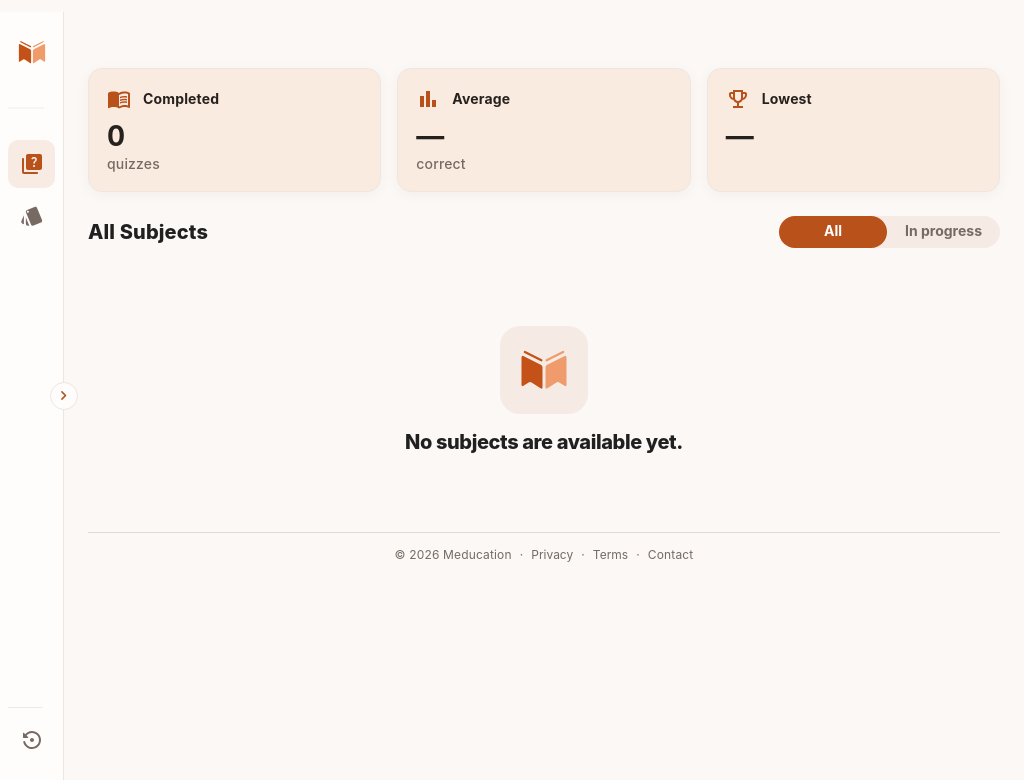
Test: shows a visible persistence error when a deck cannot be launched
Click the button named "Flashcards" at (32,216), box left=8, top=192, right=55, bottom=240
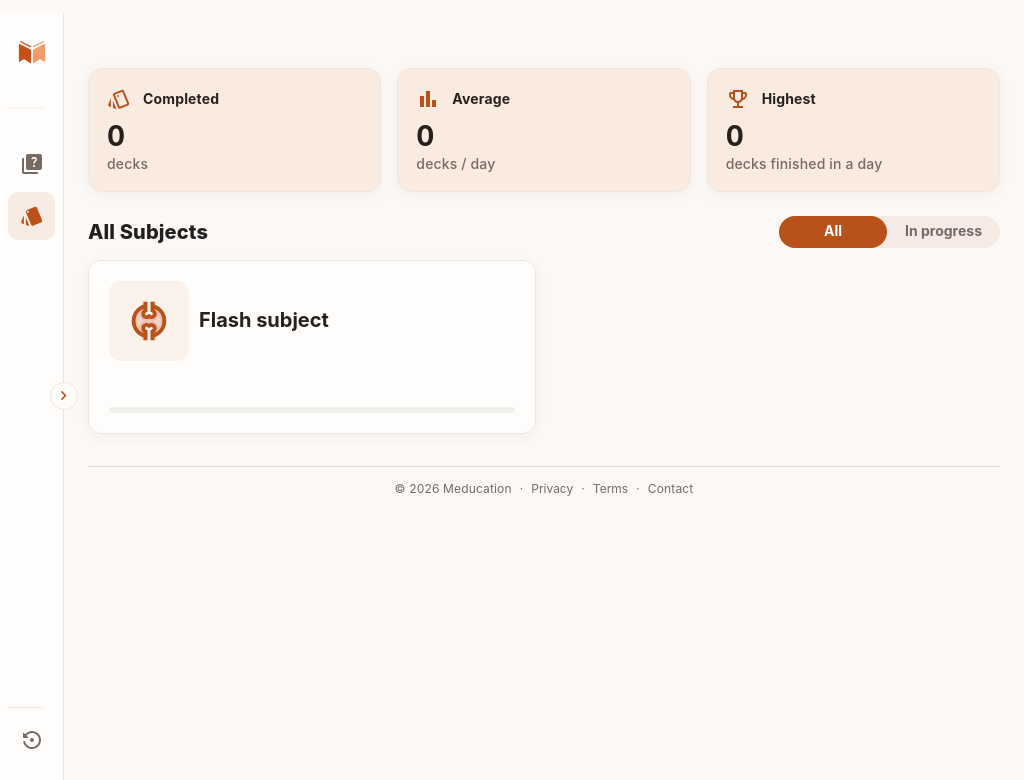
Click the button with aria-label "Open Flash subject" at (312,346), box left=89, top=260, right=535, bottom=432
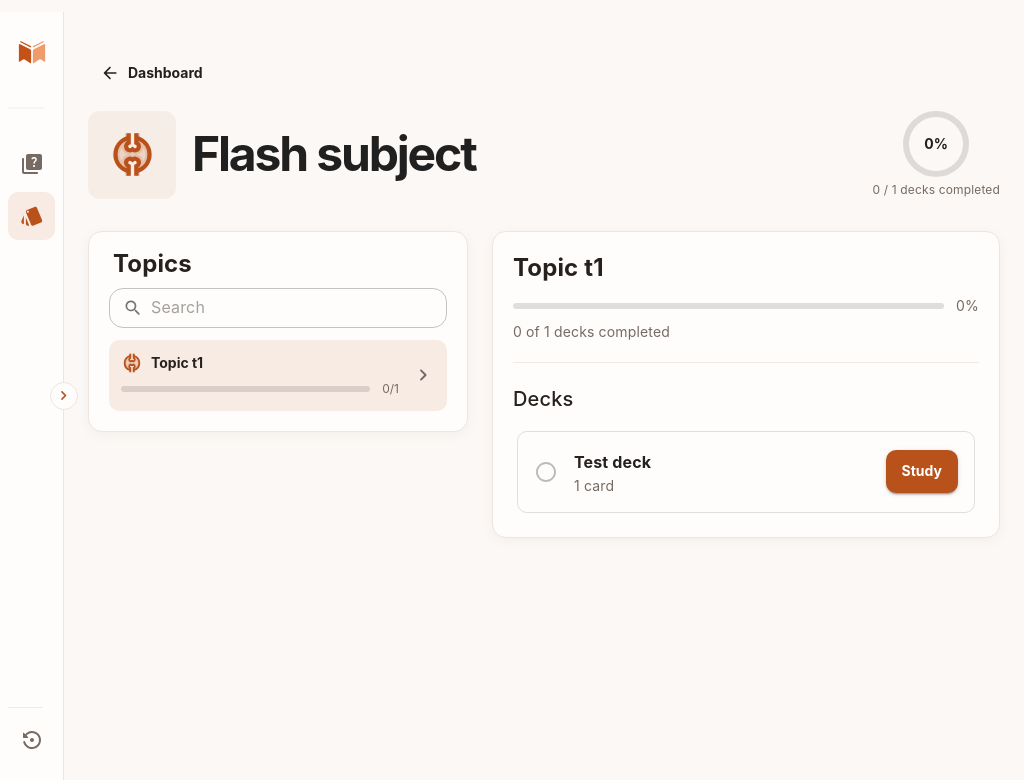
Click the button with aria-label "Study deck" at (922,472), box left=886, top=450, right=958, bottom=493
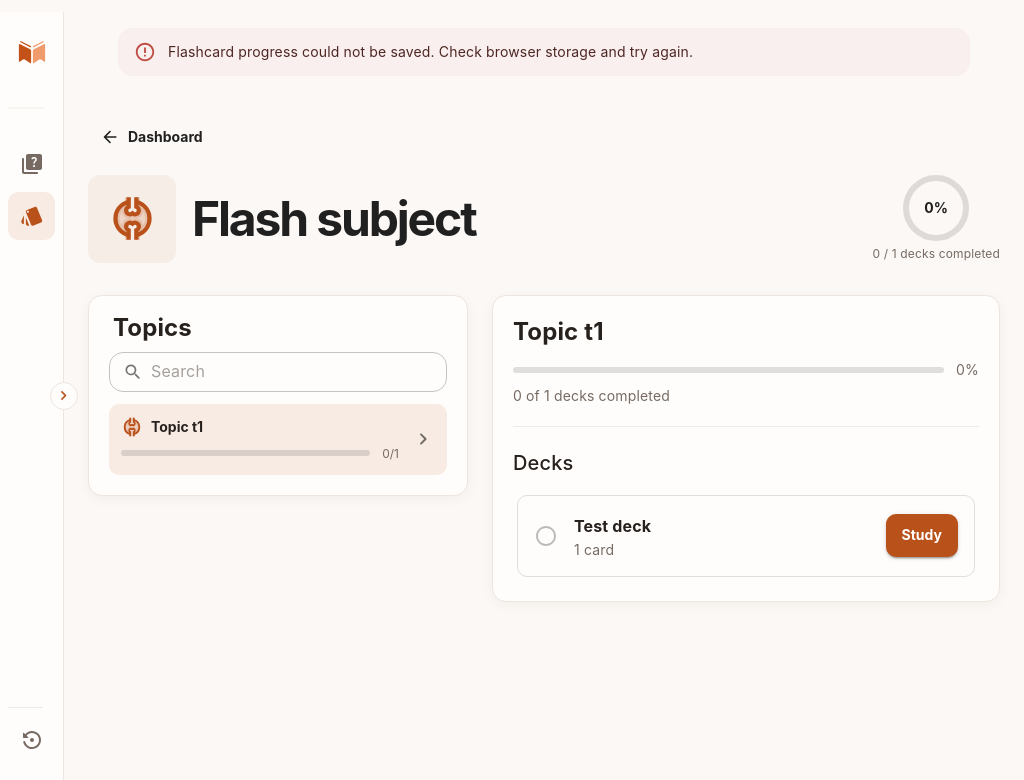
expect the button with aria-label "Study deck" is shown: met, box left=886, top=514, right=958, bottom=557
expect the message shows "Flashcard progress could not be saved": met, box left=168, top=43, right=693, bottom=60
